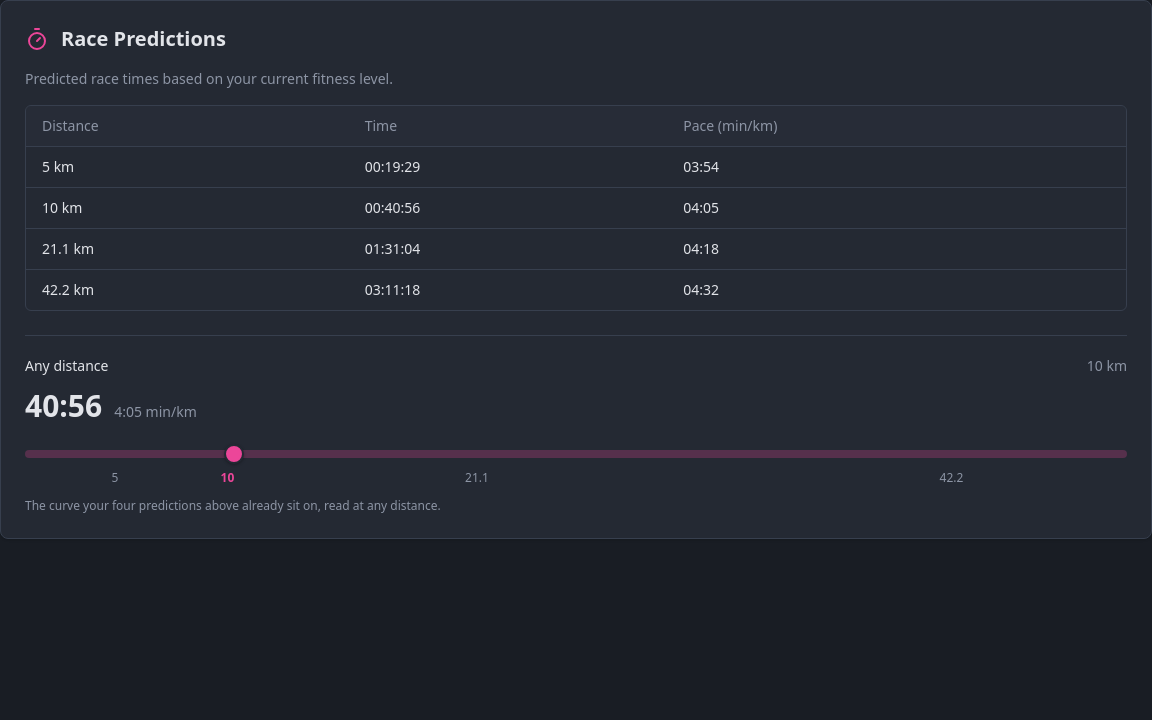
Test: the distance slider › answers a distance the API never states
The image size is (1152, 720).
Set the slider labelled "Any distance" to "15" at (343, 454), box [25, 450, 1127, 458]
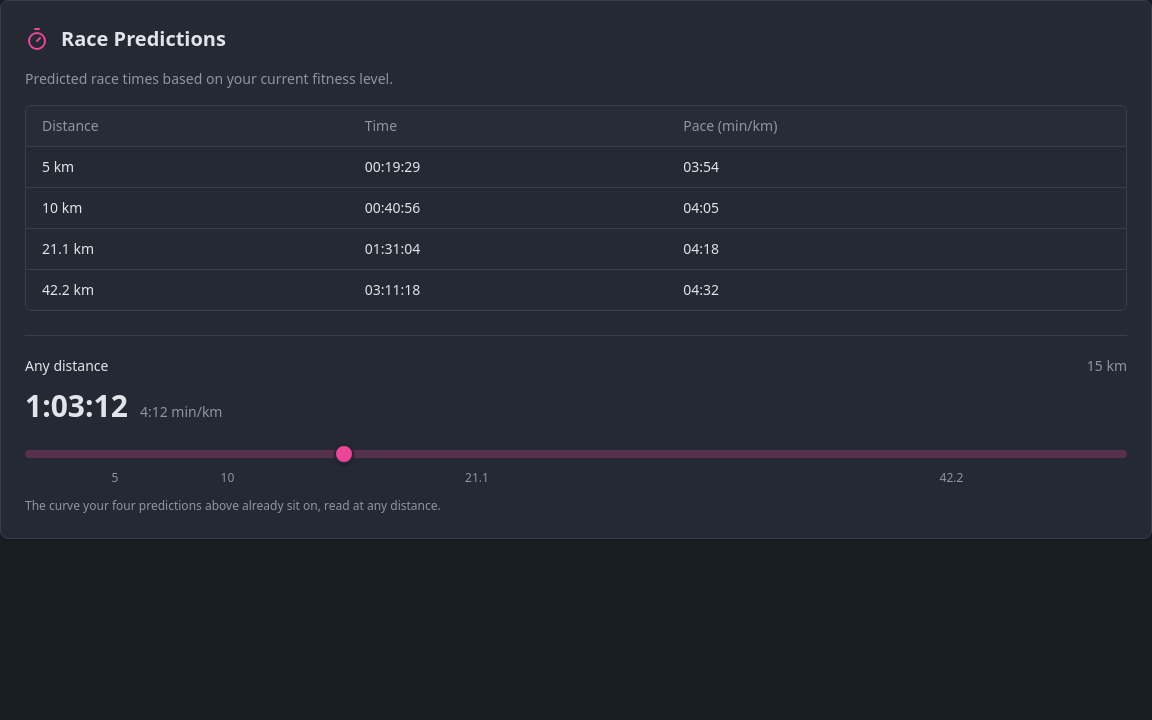
Expected: the text "1:03:12" is shown, [25, 388, 128, 424]
Expected: the text "15 km" is shown, [1087, 356, 1127, 376]
